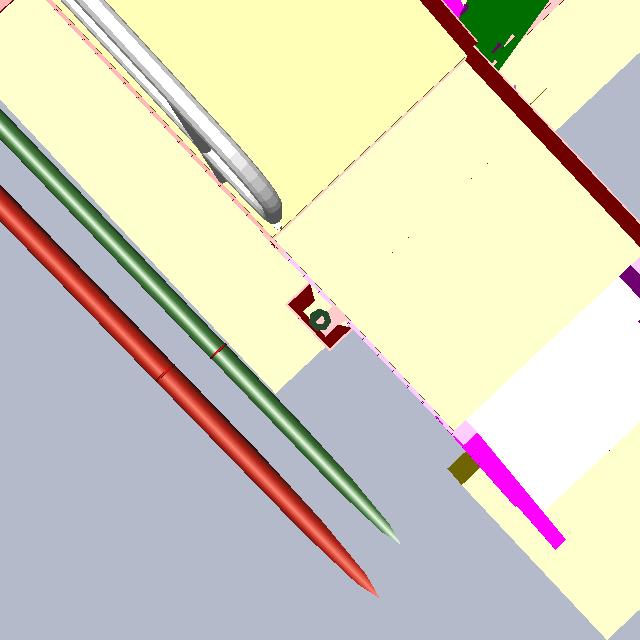Poste: (306, 304, 335, 336)
Soporte: (281, 273, 364, 357)
